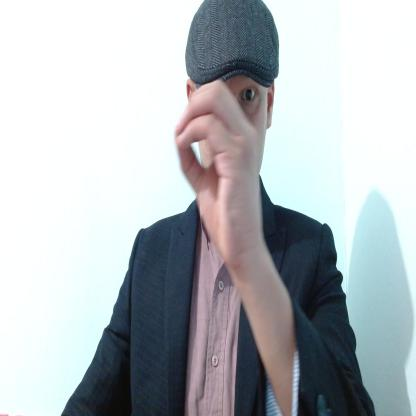O: (174, 76, 260, 270)
